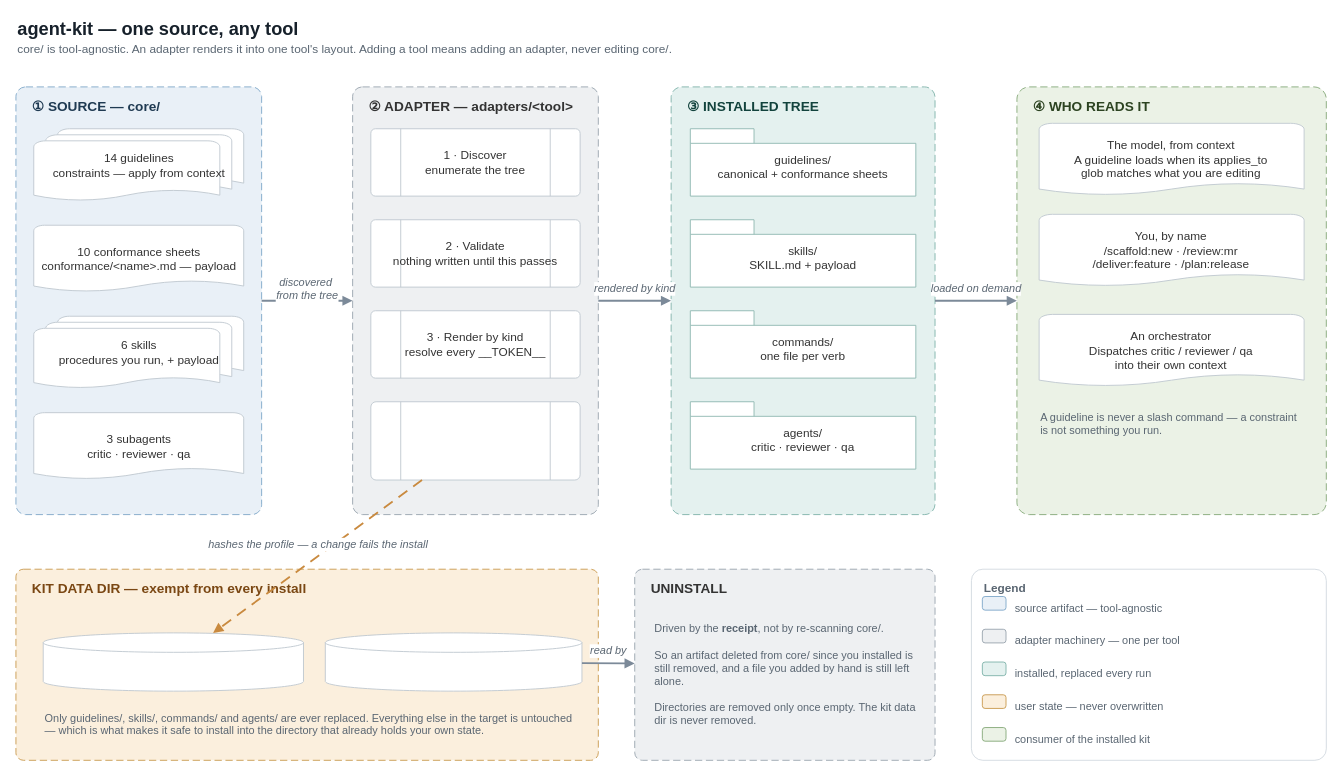
Some shapes in this 1342 by 784 pixel diagram are drawn without their labels. The centre of each missing label's shape, as x and y in pixels:
.agent-kit-install.json the receipt: point (453, 661)
4 · Verify entry points = declared zero payload registered: point (475, 440)
scaffold-profile.md / .json your org-wide values: point (172, 661)
